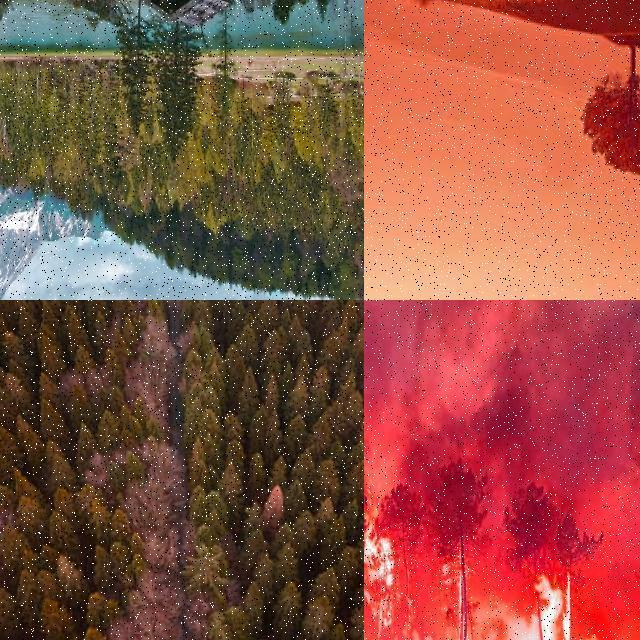tree: (364, 300, 456, 640), (430, 454, 492, 640), (371, 475, 431, 640), (502, 474, 558, 640), (578, 44, 640, 186), (555, 508, 605, 640), (156, 19, 200, 164), (364, 463, 395, 640), (116, 0, 152, 136), (72, 65, 114, 179), (207, 0, 235, 144), (37, 61, 75, 163), (12, 60, 38, 170), (233, 81, 261, 182), (0, 72, 22, 200), (267, 65, 299, 145), (0, 84, 20, 210), (364, 488, 378, 640), (292, 74, 316, 160), (0, 82, 18, 195), (1, 78, 16, 208), (287, 152, 321, 208), (256, 166, 284, 234), (0, 86, 18, 186), (138, 136, 170, 192), (44, 438, 76, 494), (1, 524, 32, 580), (314, 74, 338, 142), (274, 582, 302, 640), (300, 595, 335, 640), (39, 596, 73, 640), (308, 563, 340, 609), (37, 326, 63, 382), (344, 74, 364, 146), (39, 396, 69, 444), (0, 371, 28, 422), (238, 526, 266, 576), (16, 493, 46, 539), (0, 60, 14, 156), (242, 580, 266, 636), (188, 437, 214, 488), (220, 462, 244, 516), (64, 306, 88, 358), (318, 328, 344, 376), (48, 510, 76, 554), (1, 52, 16, 132), (308, 410, 332, 458), (322, 514, 346, 562), (68, 379, 92, 426), (316, 458, 340, 504), (1, 331, 27, 373), (262, 330, 286, 374), (263, 484, 285, 532), (274, 542, 296, 590), (292, 448, 316, 492), (76, 422, 96, 474), (96, 411, 120, 454), (283, 479, 307, 521), (238, 367, 258, 417), (237, 323, 260, 365), (0, 580, 16, 640), (344, 458, 364, 506), (0, 414, 16, 470), (288, 378, 308, 420), (92, 311, 108, 357), (17, 303, 35, 342), (356, 148, 364, 228), (0, 540, 16, 580), (348, 600, 364, 640), (258, 300, 278, 332), (1, 406, 16, 446), (0, 441, 12, 489), (324, 182, 338, 222), (81, 300, 102, 326), (0, 484, 12, 526), (0, 390, 12, 430), (40, 300, 60, 324), (356, 528, 364, 574), (0, 341, 8, 381), (23, 300, 39, 320), (28, 300, 44, 316), (0, 188, 8, 218), (360, 412, 364, 462)
